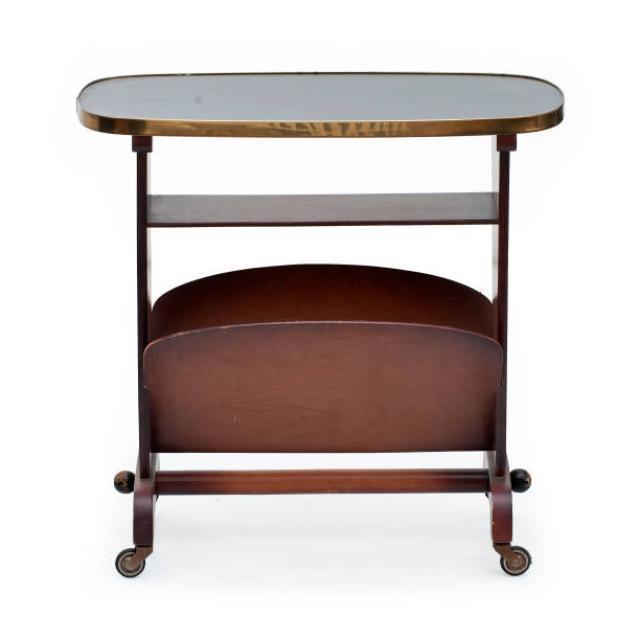table: (75, 71, 565, 577)
